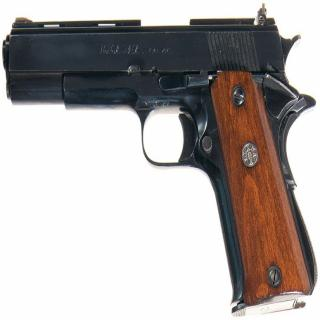gun: (6, 4, 320, 319)
